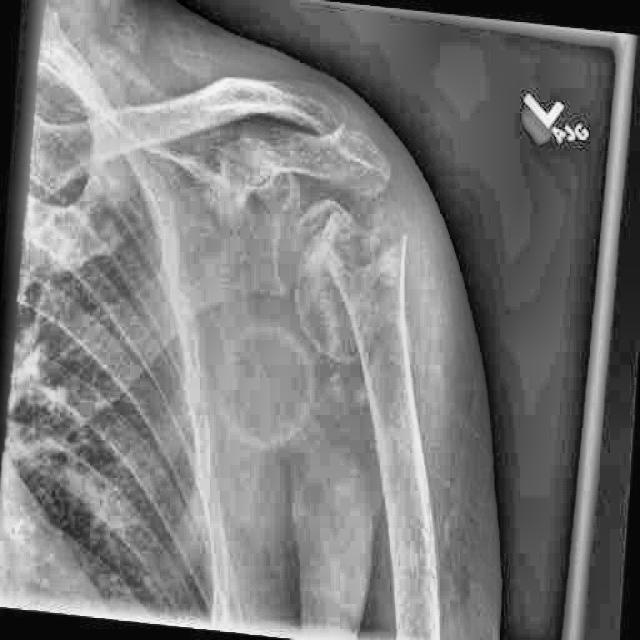shoulder fracture: (293, 188, 422, 319)
